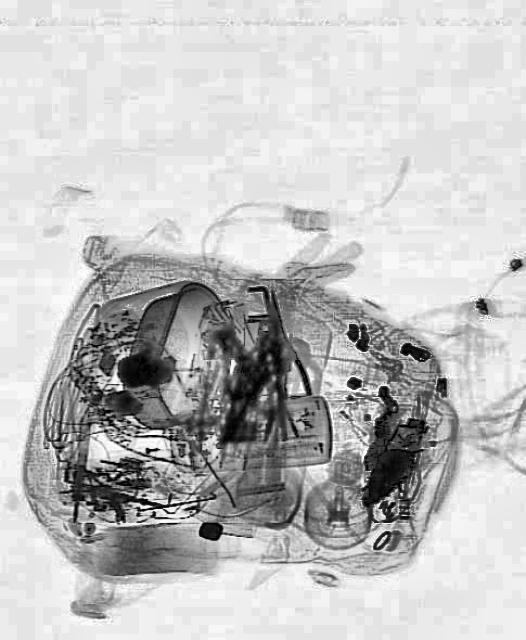Pliers: (250, 286, 310, 404)
